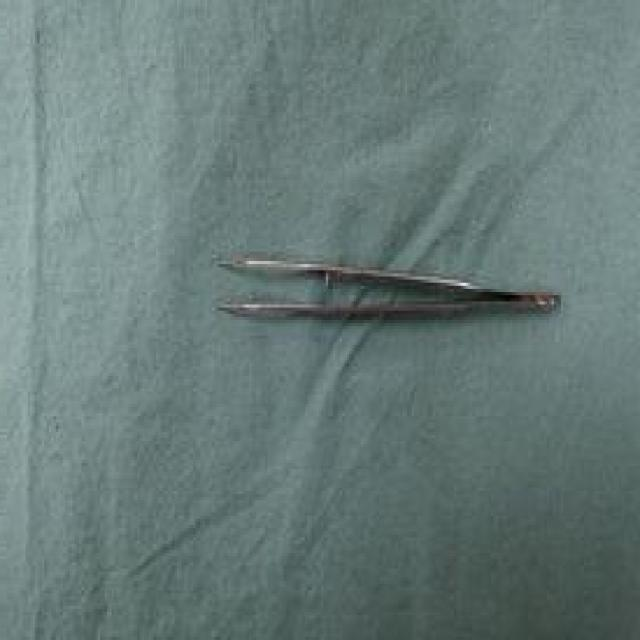Forceps: (214, 248, 563, 332)
